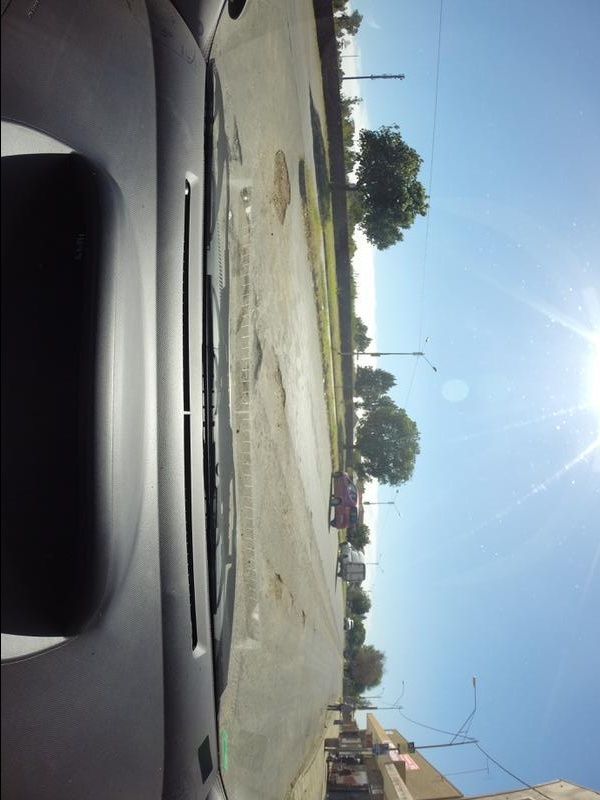pothole: (267, 133, 299, 245), (275, 356, 291, 417), (234, 116, 248, 178), (254, 327, 268, 388), (272, 571, 286, 599)
